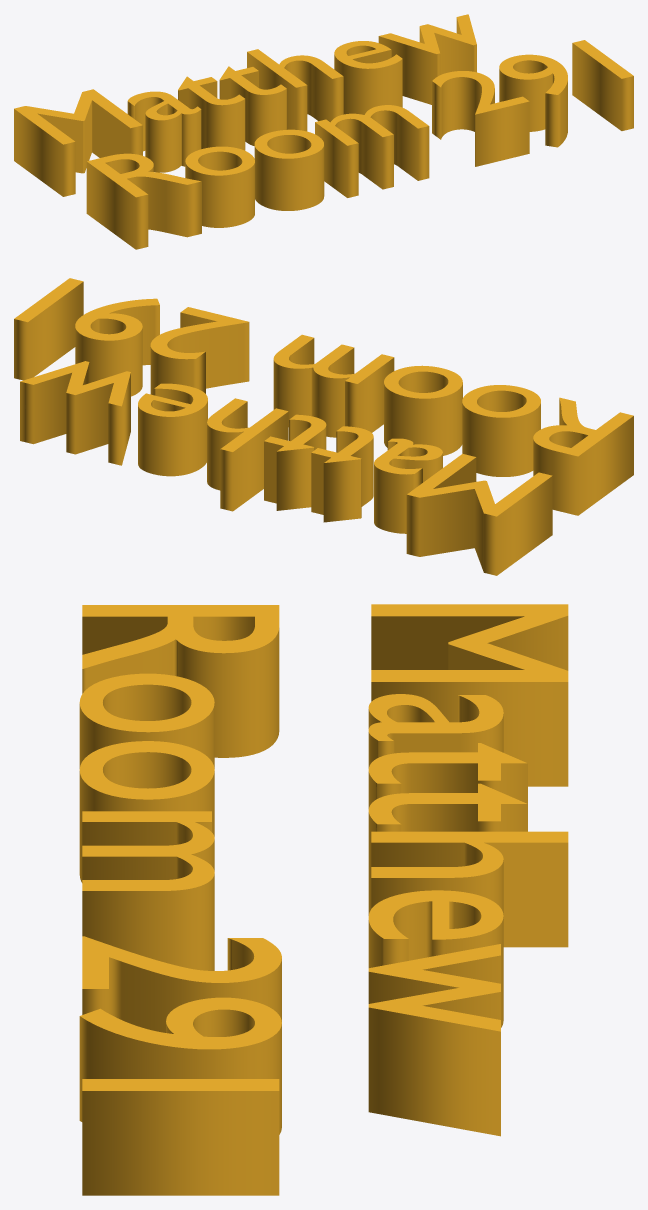
File: matthew-291.gltf
The picture shows the model from 3 angles, top to bottom: view 1: azimuth 30°, elevation 25°; view 2: azimuth 150°, elevation 25°; view 3: azimuth 270°, elevation 25°; orthographic projection. The views are drawn at different scales.
Parts seen in each view (by area): view 1: Text; view 2: Text; view 3: Text.
Boxes of the visible parts, left/top/right/bottom form: Text: left=14, top=14, right=633, bottom=249; Text: left=14, top=278, right=633, bottom=575; Text: left=79, top=604, right=568, bottom=1195.
Bounding box in the file's own units: 3.98 × 0.4 × 1.69.
